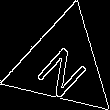N_NE: (31, 32, 93, 97)
